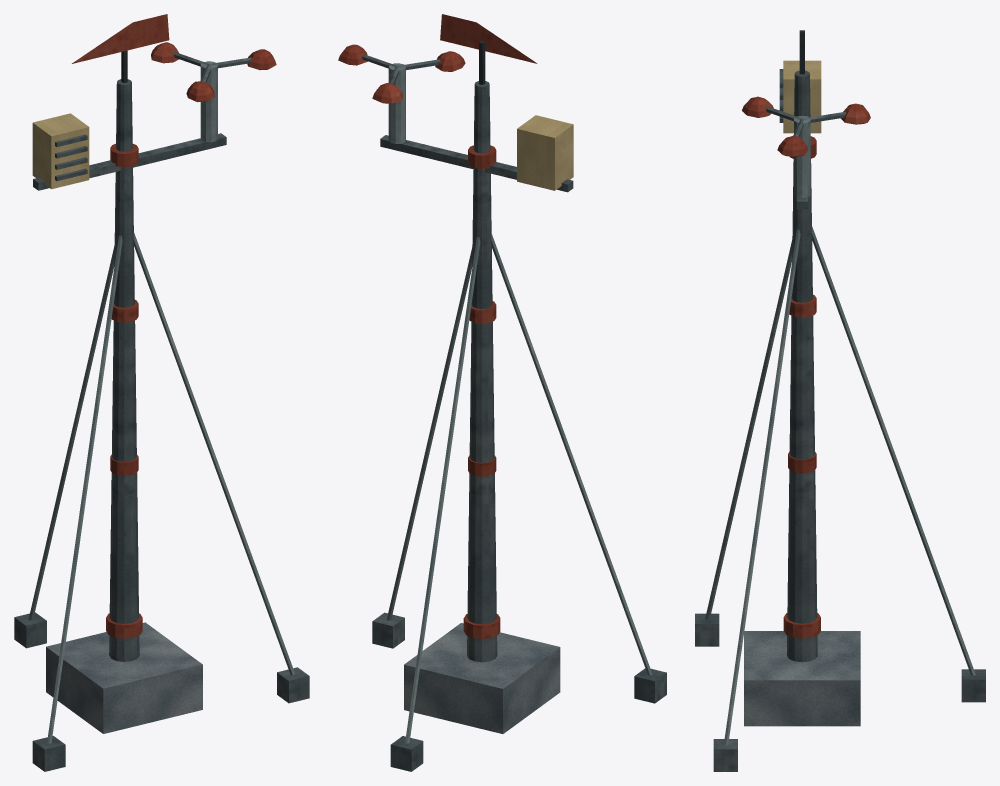
File: 22_Weather_Mast.obj
3 renders of one model, left to right at view 1: azimuth 30°, elevation 25°; view 2: azimuth 150°, elevation 25°; view 3: azimuth 270°, elevation 25°, orthographic.
Visible parts, largest first — view 1: 22_Weather_Mast; view 2: 22_Weather_Mast; view 3: 22_Weather_Mast.
Part boxes in pixels (x1,y1,x2,y2): 22_Weather_Mast: (14,14,309,771); 22_Weather_Mast: (338,14,666,771); 22_Weather_Mast: (695,30,985,771).
Bounding box in the file's own units: 1.54 × 3.58 × 1.37.
6 materials, 6 textured.
